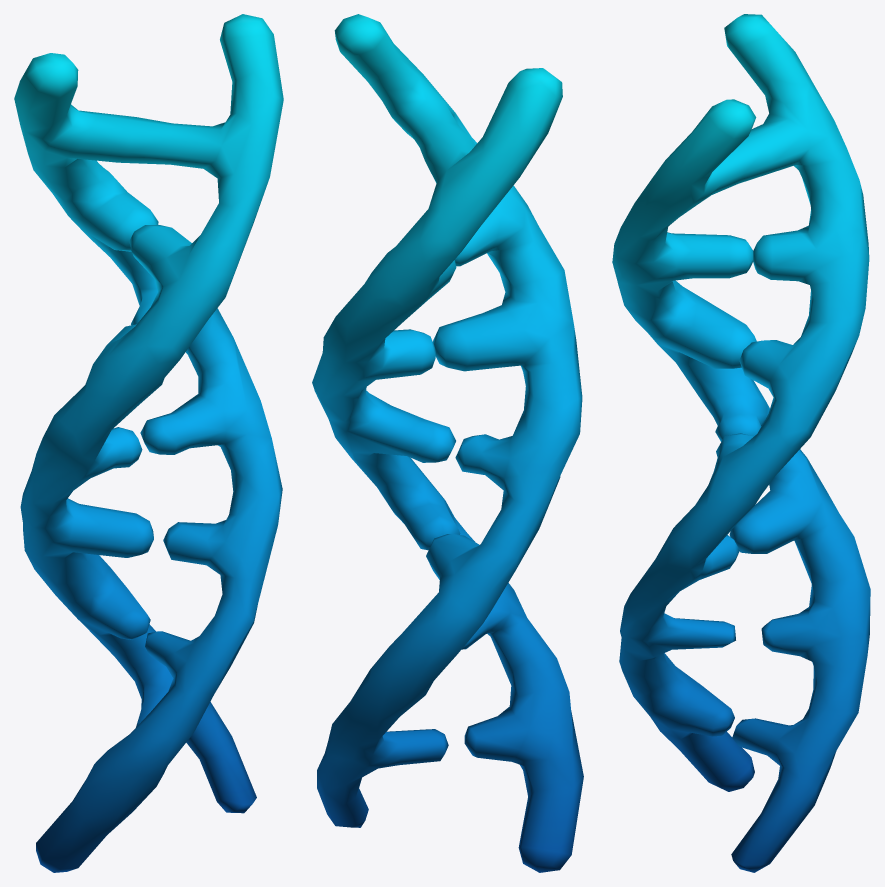
Rendered from capsule_contents_005.glb.
The picture shows the model from 3 angles, left to right: view 1: azimuth 30°, elevation 25°; view 2: azimuth 150°, elevation 25°; view 3: azimuth 270°, elevation 25°; orthographic projection. The views are drawn at different scales.
Parts seen in each view (by area): view 1: Сapsule_contents_005; view 2: Сapsule_contents_005; view 3: Сapsule_contents_005.
Part boxes in pixels (bbox=[...]): Сapsule_contents_005: bbox=[14, 14, 283, 872]; Сapsule_contents_005: bbox=[312, 14, 583, 872]; Сapsule_contents_005: bbox=[612, 14, 870, 872].
Bounding box in the file's own units: 0.3974 × 1.32 × 0.4013.
Materials: 1 (1 with a texture image).
